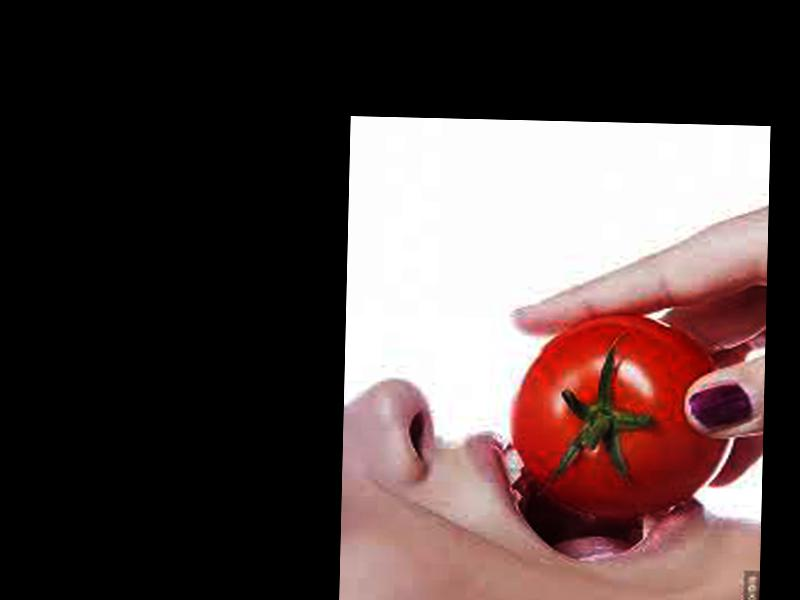Tomato: (509, 310, 736, 518)
